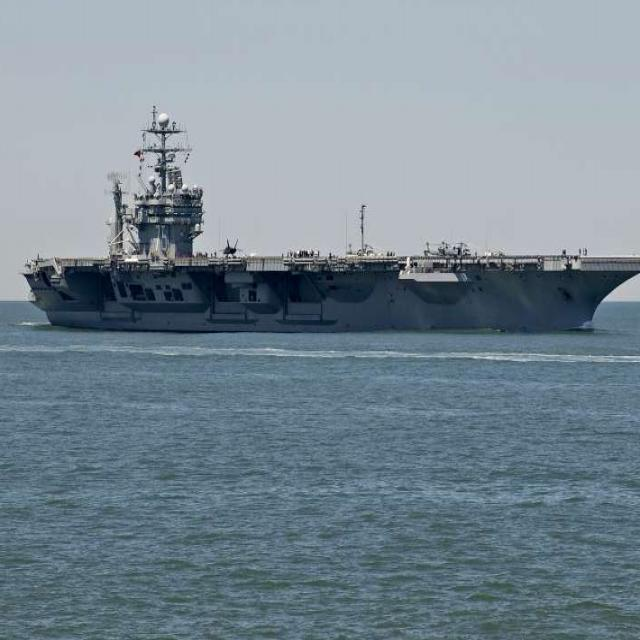Portanaves: (21, 96, 640, 339)
